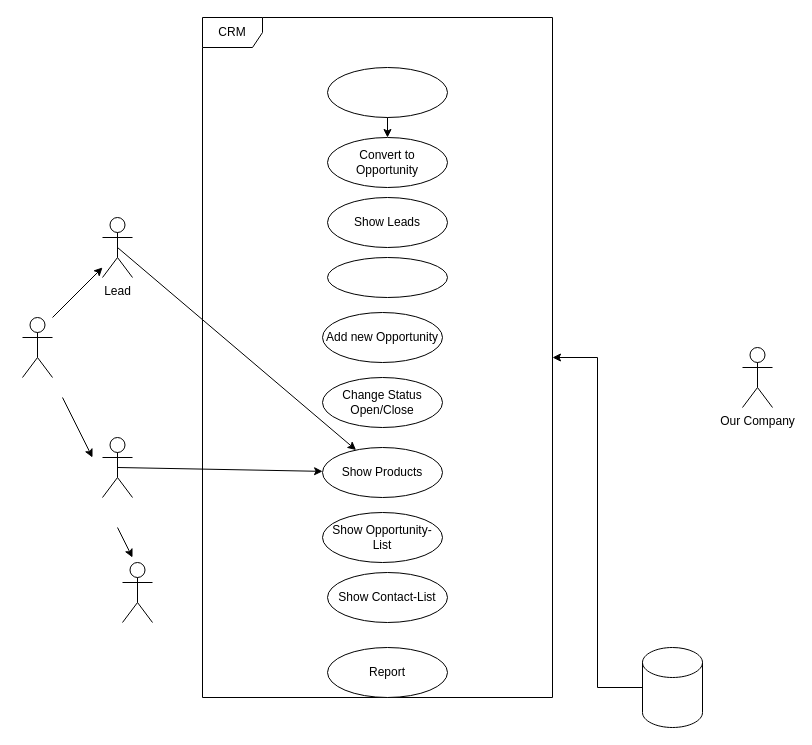
The diagram is 812 pixels wide and 745 high, and some of its shapes have lost their labels. Here are the shapes that lost their labels. From the top down, the centre of each, then its label:
At point (387, 92): "Add new Lead".
At point (387, 277): "Lookup Lead id".
At point (37, 347): "Contact".
At point (117, 467): "Opportunity".
At point (137, 592): "Account / Company".
